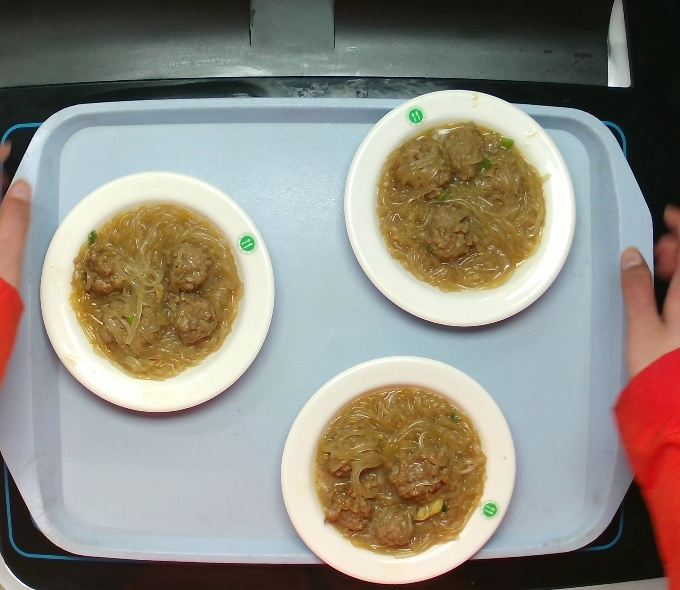wcq-FenSiNiuRouWan: (305, 370, 493, 561), (370, 115, 556, 298), (62, 197, 247, 379)
